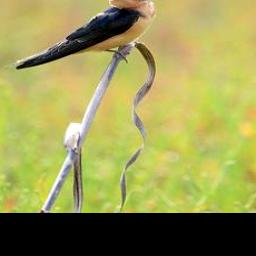Swallow: (0, 0, 157, 74)
